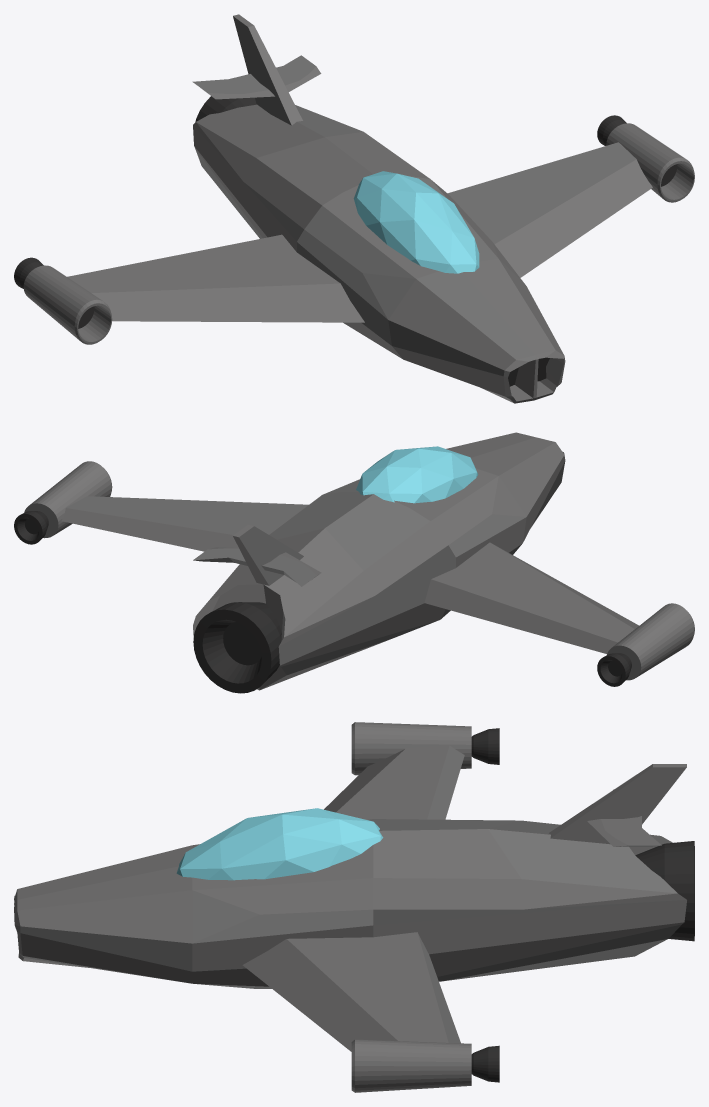
File: space brigade starbird classic.glb
3 renders of one model, top to bottom at view 1: azimuth 30°, elevation 25°; view 2: azimuth 150°, elevation 25°; view 3: azimuth 270°, elevation 25°, orthographic. The views are drawn at different scales.
Parts seen in each view (by area): view 1: Hull, Wings, Canopy, Turbine.R, Turbine.L, Spoiler Strut, Spoiler, Engine; view 2: Hull, Wings, Engine, Canopy, Turbine.R, Turbine.L, Spoiler Strut, Spoiler, Engine.L, Engine.R; view 3: Hull, Wings, Canopy, Turbine.L, Spoiler Strut, Turbine.R, Engine, Spoiler, Engine.L, Engine.R.
Part boxes in pixels (<box>): Hull: <box>193,104,565,403</box>; Wings: <box>67,142,652,322</box>; Canopy: <box>353,171,479,273</box>; Turbine.R: <box>23,265,112,344</box>; Turbine.L: <box>606,123,694,202</box>; Spoiler Strut: <box>233,14,302,125</box>; Spoiler: <box>192,55,321,99</box>; Engine: <box>195,96,256,121</box>; Hull: <box>193,432,565,690</box>; Wings: <box>61,496,638,653</box>; Engine: <box>193,602,281,693</box>; Canopy: <box>356,446,478,503</box>; Turbine.R: <box>607,603,694,680</box>; Turbine.L: <box>24,461,112,538</box>; Spoiler Strut: <box>233,524,303,585</box>; Spoiler: <box>193,547,321,586</box>; Engine.L: <box>14,511,48,544</box>; Engine.R: <box>597,653,631,686</box>; Hull: <box>14,819,686,988</box>; Wings: <box>242,745,464,1051</box>; Canopy: <box>176,808,383,880</box>; Turbine.L: <box>351,1039,471,1092</box>; Spoiler Strut: <box>549,764,686,844</box>; Turbine.R: <box>351,722,471,775</box>; Engine: <box>635,841,694,941</box>; Spoiler: <box>587,789,661,846</box>; Engine.L: <box>471,1045,499,1082</box>; Engine.R: <box>471,728,499,764</box>.
Bounding box in the file's own units: 11.62 × 3.43 × 9.91.
2 materials, 1 textured.
